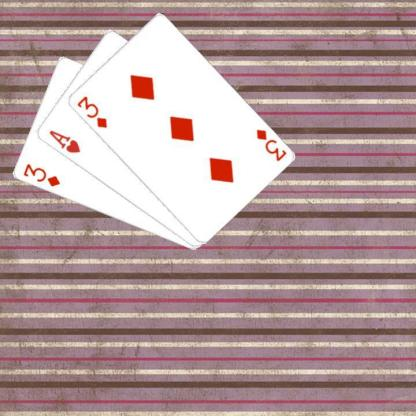3D: (253, 126, 288, 163), (74, 93, 109, 129), (20, 161, 61, 188)
AH: (46, 128, 82, 155)
